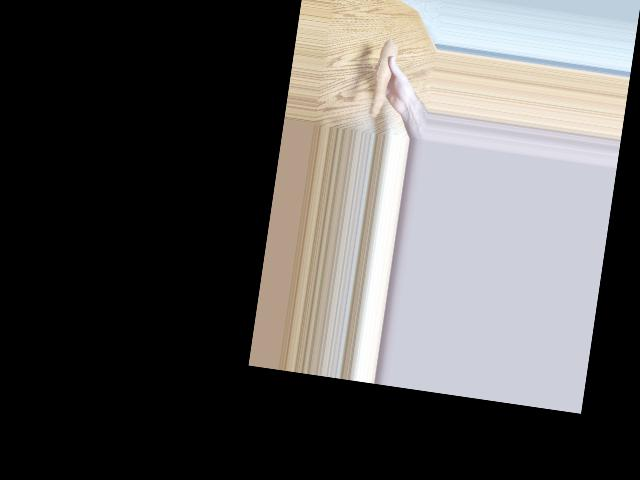sweet_potato: (366, 39, 396, 122)
